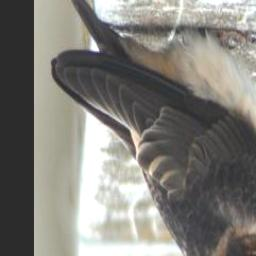Swallow: (49, 0, 256, 256)
